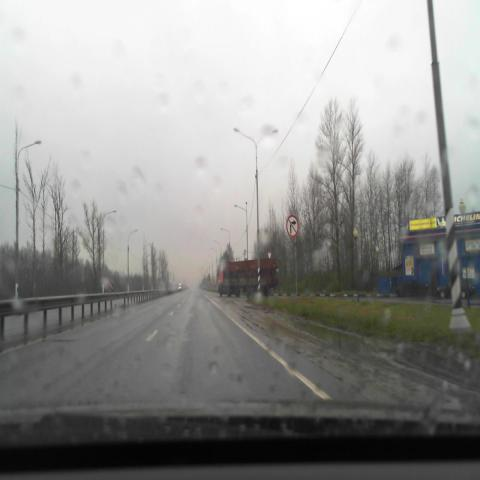3_18: (286, 215, 299, 237)
